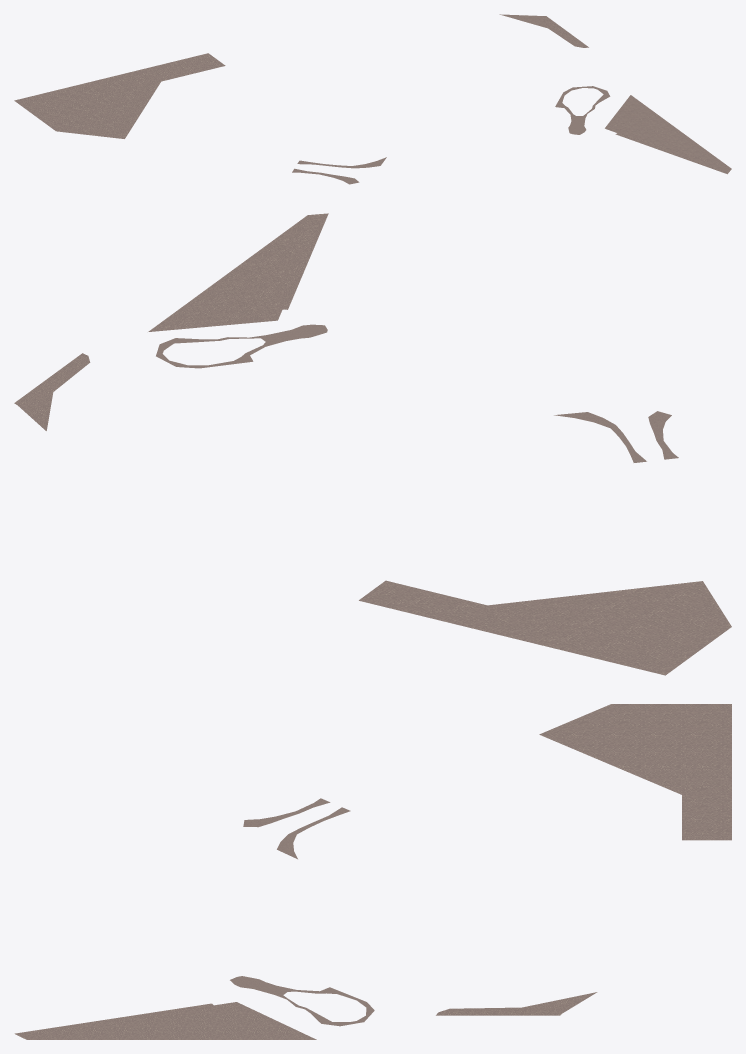
The model's file is kd_stage_135ebf_0_5_bounded.glb.
3 views of the same model, one above another, from view 1: azimuth 30°, elevation 25°; view 2: azimuth 150°, elevation 25°; view 3: azimuth 270°, elevation 25° (orthographic). The views are drawn at different scales.
Visible parts, largest first — view 1: kd_stage_135ebf_0_5_bounded; view 2: kd_stage_135ebf_0_5_bounded; view 3: kd_stage_135ebf_0_5_bounded.
Boxes of the visible parts, x1,y1,x2,y2 form: kd_stage_135ebf_0_5_bounded: (14, 14, 731, 184); kd_stage_135ebf_0_5_bounded: (14, 213, 731, 675); kd_stage_135ebf_0_5_bounded: (14, 704, 731, 1039).
Size of the model in its own units: 20.39 by 0.6999 by 18.71.
1 material, 1 textured.
